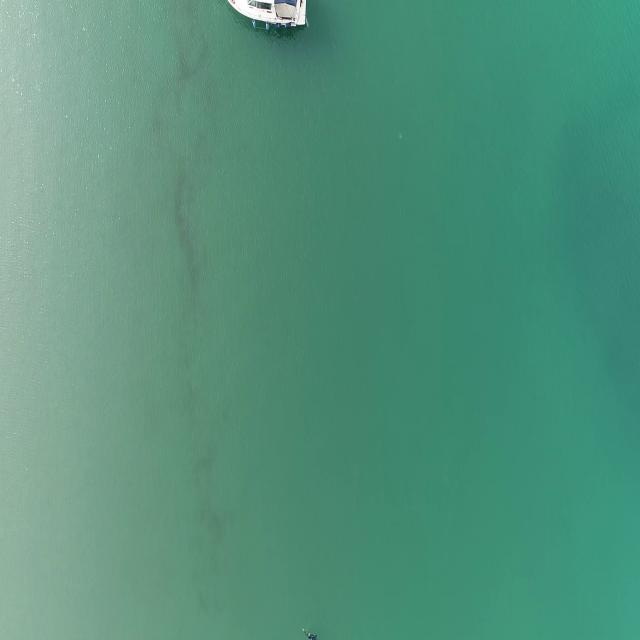boat: (227, 0, 310, 42)
person: (302, 627, 324, 640)
